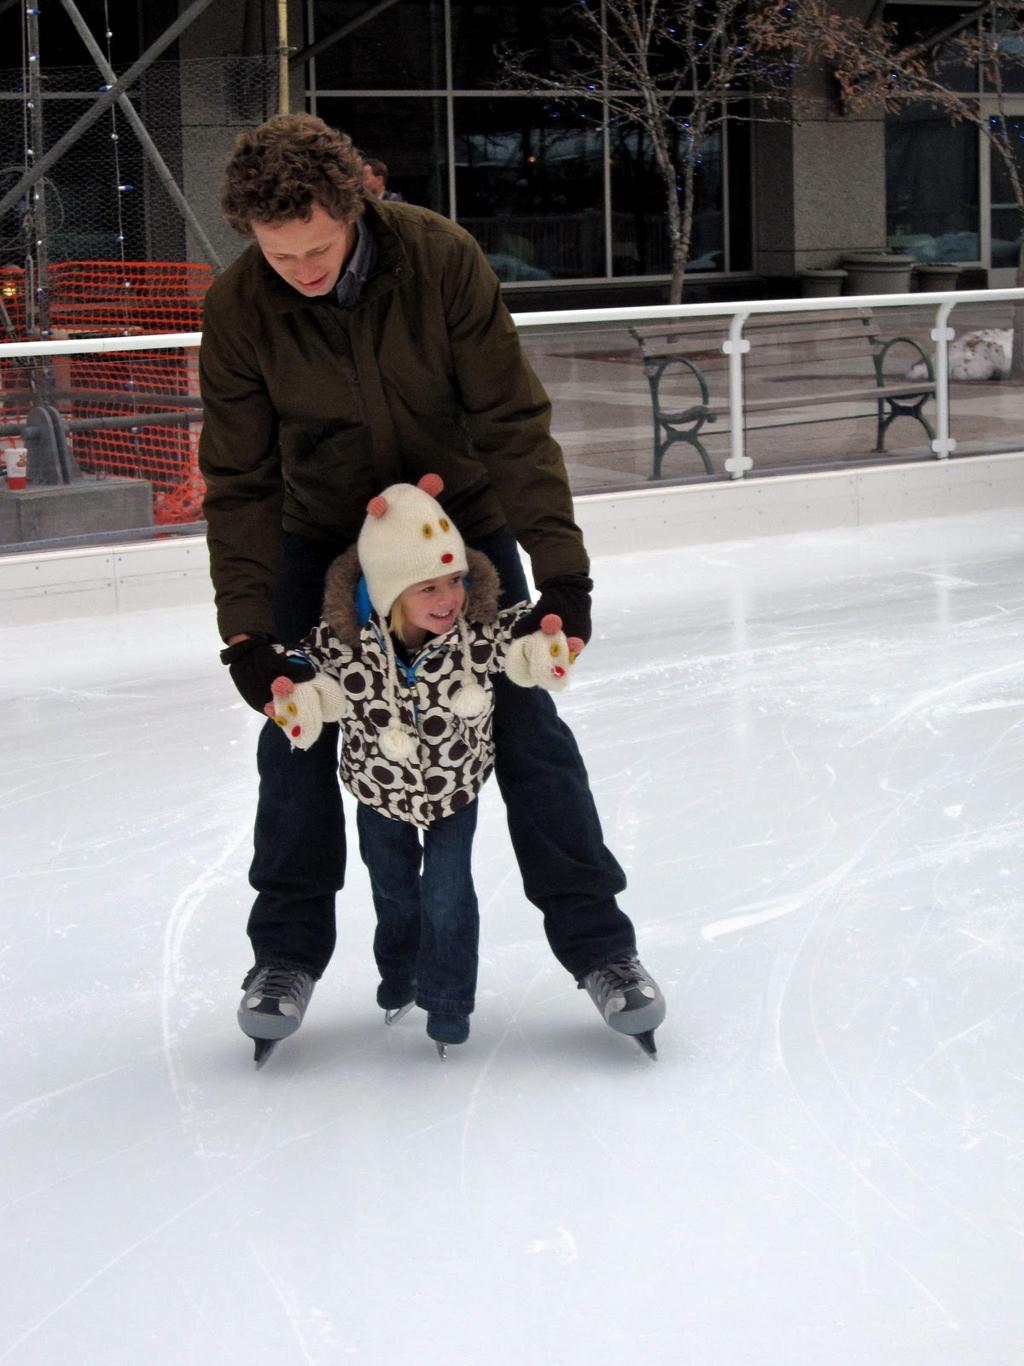face: (248, 205, 349, 298), (397, 563, 464, 632)
